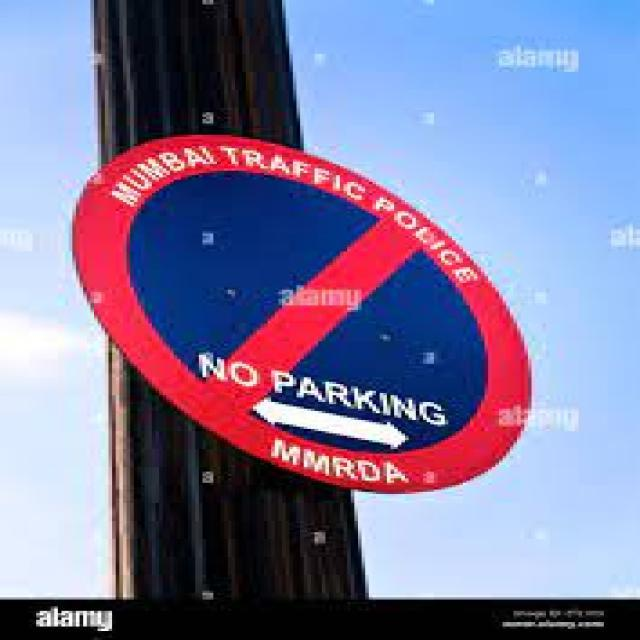no parking: (62, 127, 543, 502)
